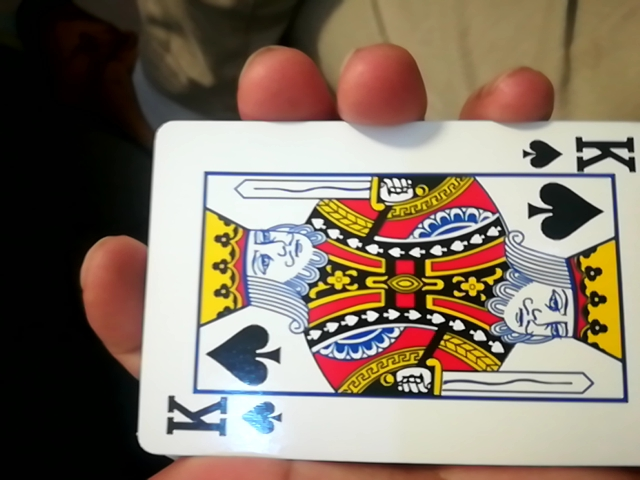ht k: (123, 115, 633, 478)
